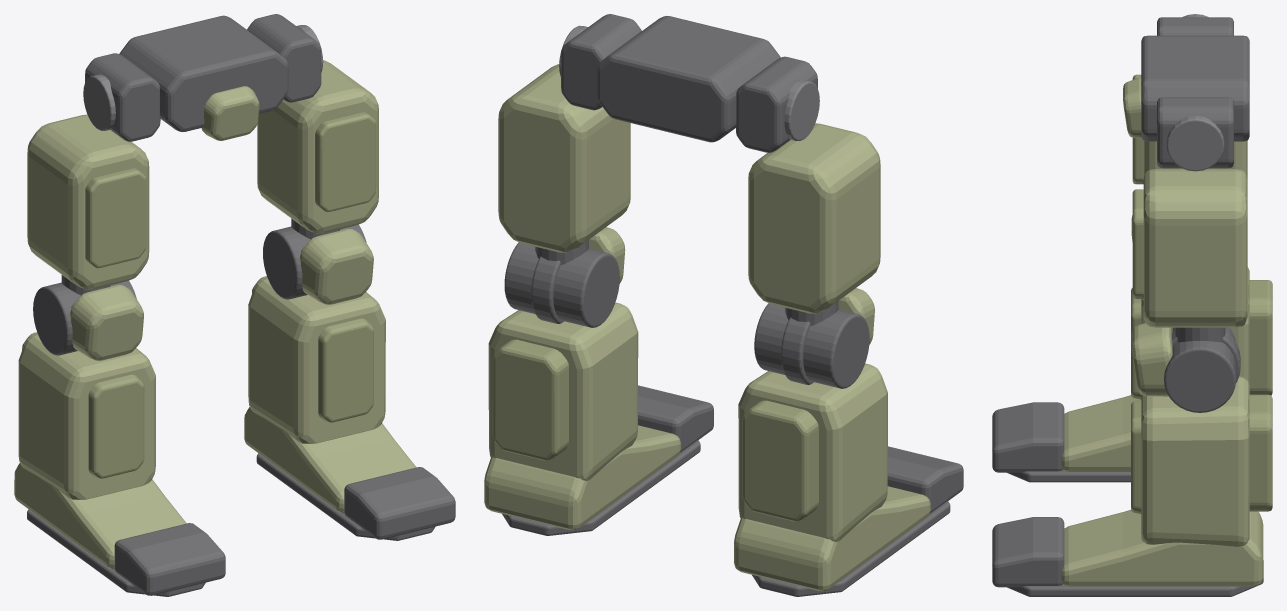
Rendered from recon_sheet_legs.glb.
3 views of the same model, side by side, from view 1: azimuth 30°, elevation 25°; view 2: azimuth 150°, elevation 25°; view 3: azimuth 270°, elevation 25° (orthographic). The views are drawn at different scales.
Parts seen in each view (by area): view 1: ShinR, ShinL, ThighR, Pelvis, ThighL, FootL, FootR, ToeR, ToeL, ThighPlateR, ThighPlateL, ShinPlateR (+11 smaller); view 2: ThighR, ThighL, Pelvis, ShinR, ShinL, FootR, FootL, CalfR, CalfL, KneeJointL, KneeJointR, HipJointR (+8 smaller); view 3: ThighL, ShinL, FootL, Pelvis, ToeR, ToeL, KneeJointL, FootR, HipJointL, CalfL, CalfR, HipCapL (+12 smaller).
Boxes of the visible parts, bbox=[...] form: ShinR: bbox=[18, 333, 155, 499]; ShinL: bbox=[248, 277, 385, 443]; ThighR: bbox=[27, 114, 149, 289]; Pelvis: bbox=[119, 15, 288, 131]; ThighL: bbox=[257, 60, 378, 233]; FootL: bbox=[244, 407, 416, 513]; FootR: bbox=[14, 463, 186, 569]; ToeR: bbox=[114, 523, 225, 595]; ToeL: bbox=[344, 467, 455, 539]; ThighPlateR: bbox=[85, 168, 146, 268]; ThighPlateL: bbox=[315, 112, 376, 211]; ShinPlateR: bbox=[88, 374, 144, 478]; ThighR: bbox=[748, 123, 880, 313]; ThighL: bbox=[498, 64, 630, 252]; Pelvis: bbox=[596, 16, 780, 142]; ShinR: bbox=[738, 363, 887, 541]; ShinL: bbox=[488, 302, 638, 480]; FootR: bbox=[734, 486, 930, 591]; FootL: bbox=[484, 425, 680, 530]; CalfR: bbox=[742, 400, 818, 521]; CalfL: bbox=[492, 339, 568, 460]; KneeJointL: bbox=[504, 242, 619, 327]; KneeJointR: bbox=[754, 303, 869, 388]; HipJointR: bbox=[736, 56, 817, 152]; ThighL: bbox=[1143, 169, 1247, 327]; ShinL: bbox=[1141, 376, 1249, 546]; FootL: bbox=[1061, 510, 1263, 586]; Pelvis: bbox=[1141, 35, 1249, 141]; ToeR: bbox=[992, 402, 1064, 472]; ToeL: bbox=[992, 517, 1064, 587]; KneeJointL: bbox=[1164, 327, 1240, 412]; FootR: bbox=[1061, 395, 1140, 471]; HipJointL: bbox=[1157, 97, 1233, 168]; CalfL: bbox=[1249, 394, 1272, 511]; CalfR: bbox=[1249, 280, 1272, 395]; HipCapL: bbox=[1166, 115, 1224, 171].
Bounding box in the file's own units: 4.23 × 5.63 × 3.11.
